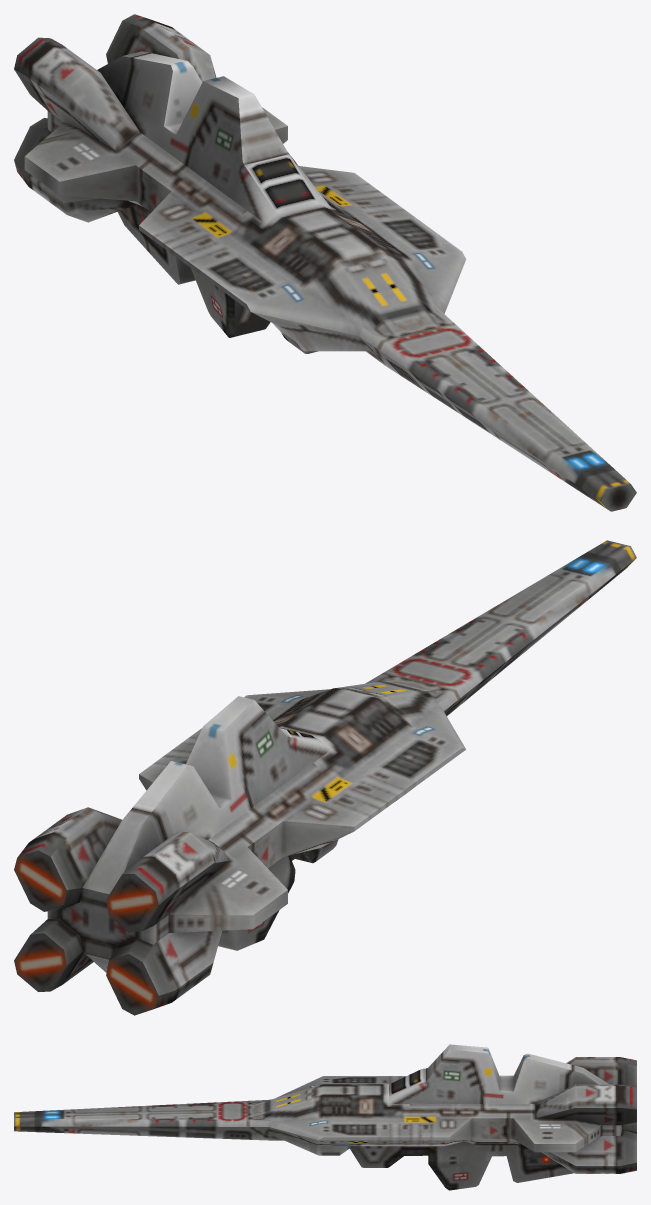
The model's file is vgr_scout_01.glb.
3 views of the same model, one above another, from view 1: azimuth 30°, elevation 25°; view 2: azimuth 150°, elevation 25°; view 3: azimuth 270°, elevation 25° (orthographic). The views are drawn at different scales.
Visible parts, largest first — view 1: vgr_scout_01_LOD0; view 2: vgr_scout_01_LOD0; view 3: vgr_scout_01_LOD0.
Part boxes in pixels (<box>): vgr_scout_01_LOD0: <box>14,14,636,511</box>; vgr_scout_01_LOD0: <box>14,540,636,1015</box>; vgr_scout_01_LOD0: <box>14,1044,636,1190</box>.
Size of what is drawn, in the model's own units: 0.0961 by 0.0955 by 0.3881.
1 material, 1 textured.
